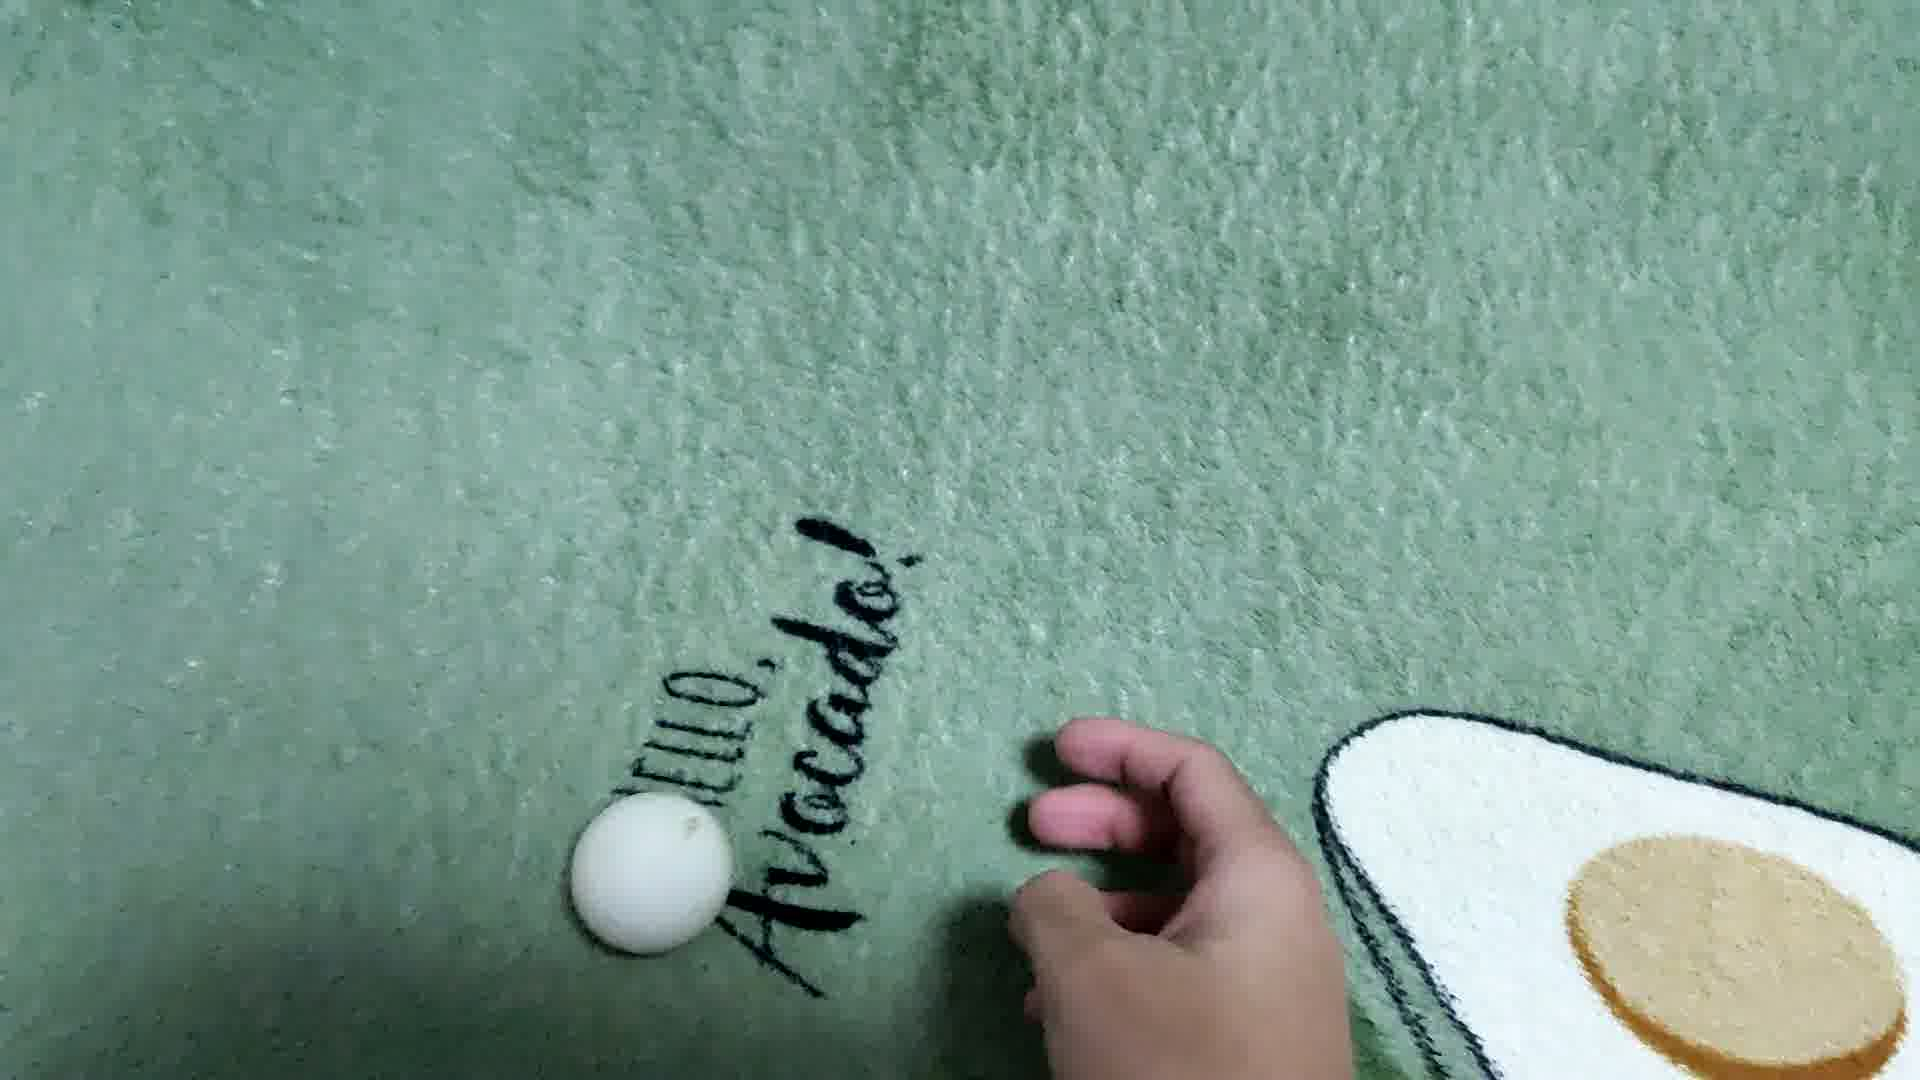Ball: (564, 790, 727, 953)
